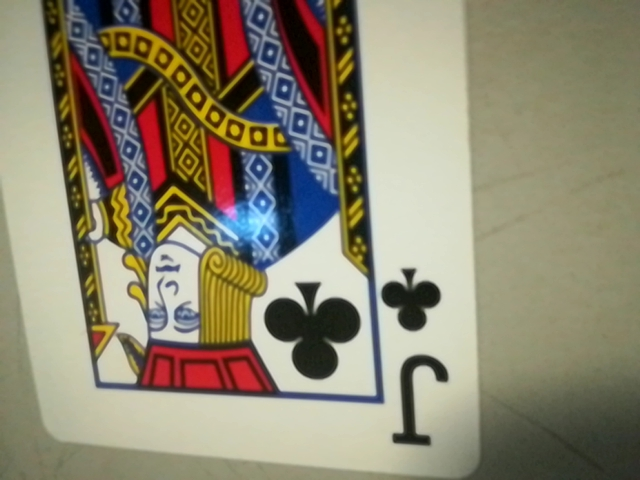mh j: (369, 259, 467, 453)
